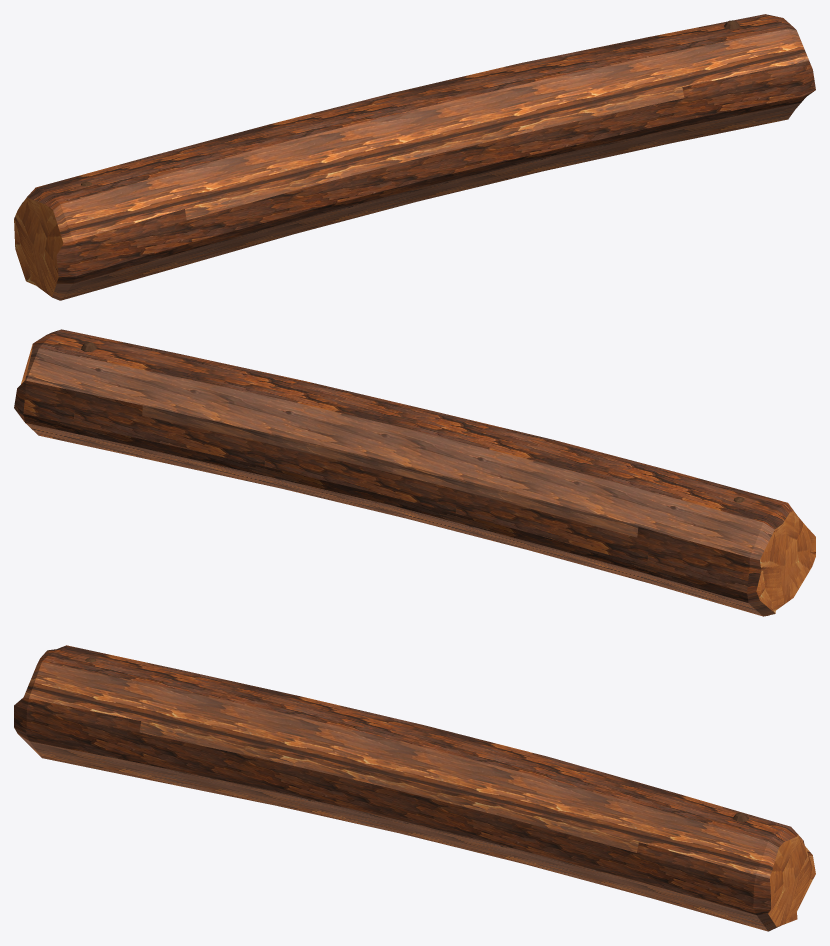
Rendered from beam__plank_root.glb.
3 views of the same model, one above another, from view 1: azimuth 30°, elevation 25°; view 2: azimuth 150°, elevation 25°; view 3: azimuth 330°, elevation 25° (orthographic).
Parts seen in each view (by area): view 1: model; view 2: model; view 3: model.
Part boxes in pixels (x1,y1,x2,y2): model: (14, 14, 815, 300); model: (14, 329, 815, 616); model: (14, 645, 815, 931).
Bounding box in the file's own units: 1.97 × 0.2695 × 0.257.
4 materials, 4 textured.
